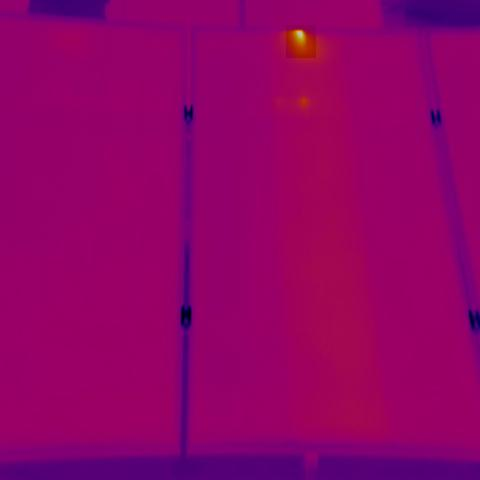fault: (286, 25, 316, 58)
